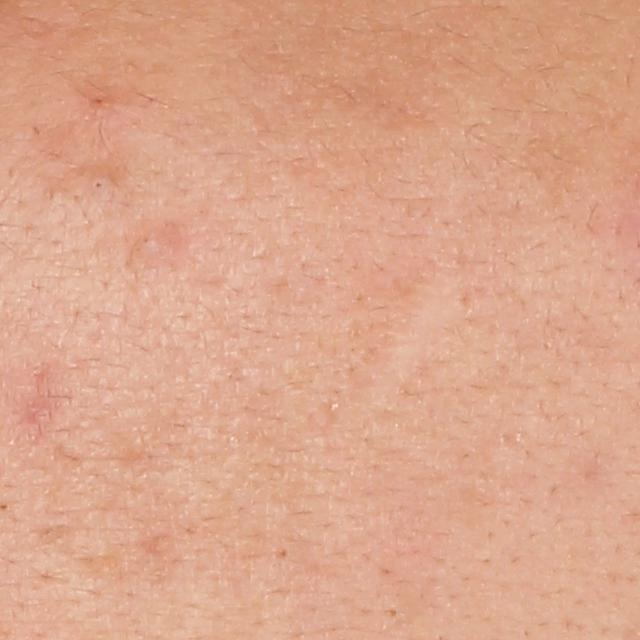comedo: (136, 230, 164, 253), (384, 605, 405, 623)
